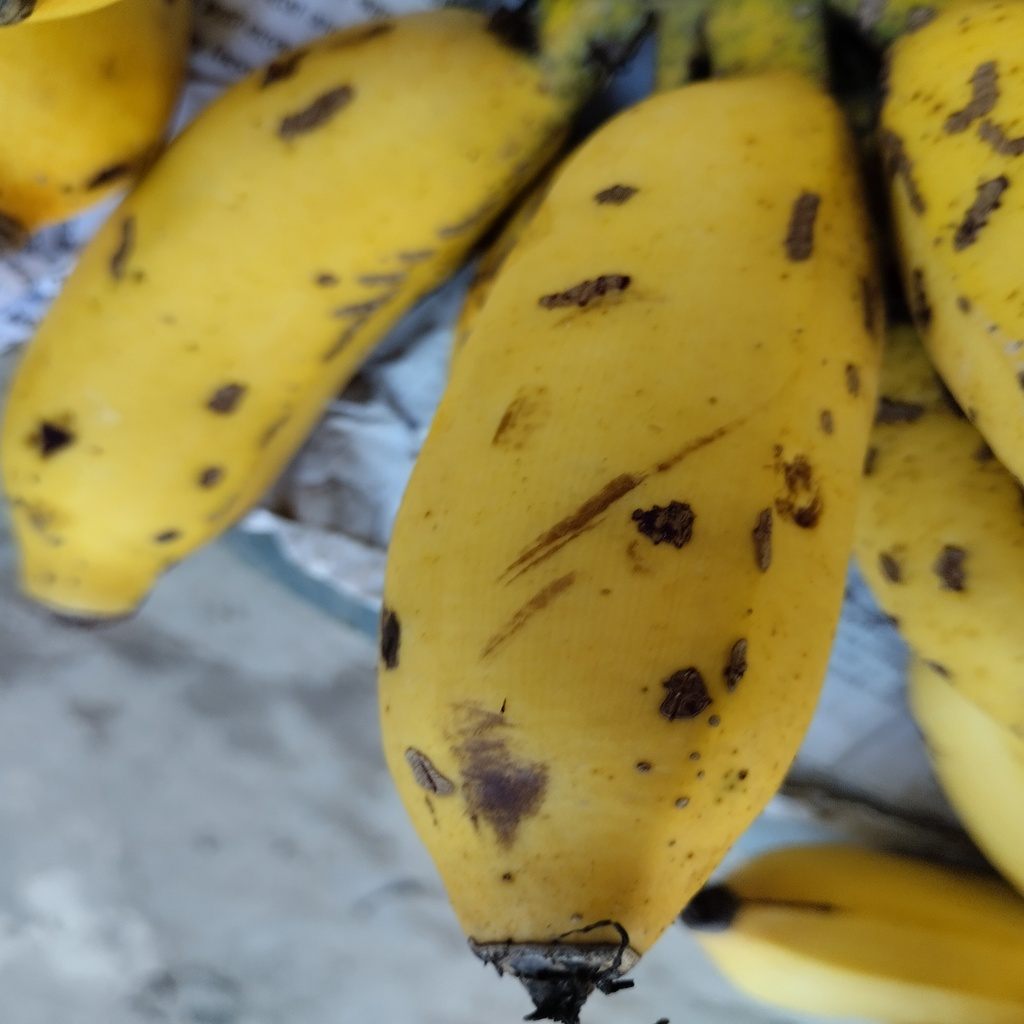unhealthy: (380, 71, 892, 961), (2, 11, 572, 627)
